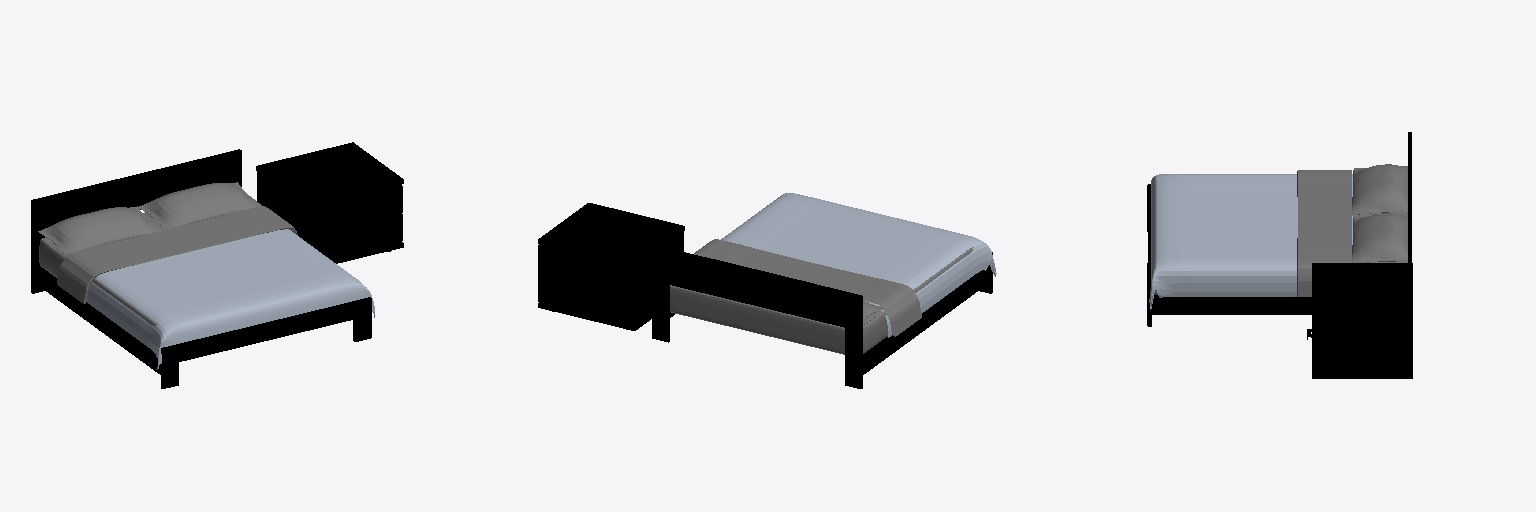
3 renders of one model, left to right at view 1: azimuth 30°, elevation 25°; view 2: azimuth 150°, elevation 25°; view 3: azimuth 270°, elevation 25°, orthographic.
Parts seen in each view (by area): view 1: pasted__pasted__ChamferBox30 group14, pasted__Rectangle1 group16; view 2: pasted__pasted__ChamferBox30 group14, pasted__Rectangle1 group16; view 3: pasted__pasted__ChamferBox30 group14, pasted__Rectangle1 group16.
Boxes of the visible parts, x1,y1,x2,y2 form: pasted__pasted__ChamferBox30 group14: [31, 149, 374, 388]; pasted__Rectangle1 group16: [256, 142, 403, 263]; pasted__pasted__ChamferBox30 group14: [652, 193, 996, 388]; pasted__Rectangle1 group16: [538, 203, 684, 330]; pasted__pasted__ChamferBox30 group14: [1147, 132, 1411, 326]; pasted__Rectangle1 group16: [1307, 263, 1412, 378].
Size of the model in its own units: 19.09 by 5.15 by 13.41.
Materials: 4 (1 with a texture image).